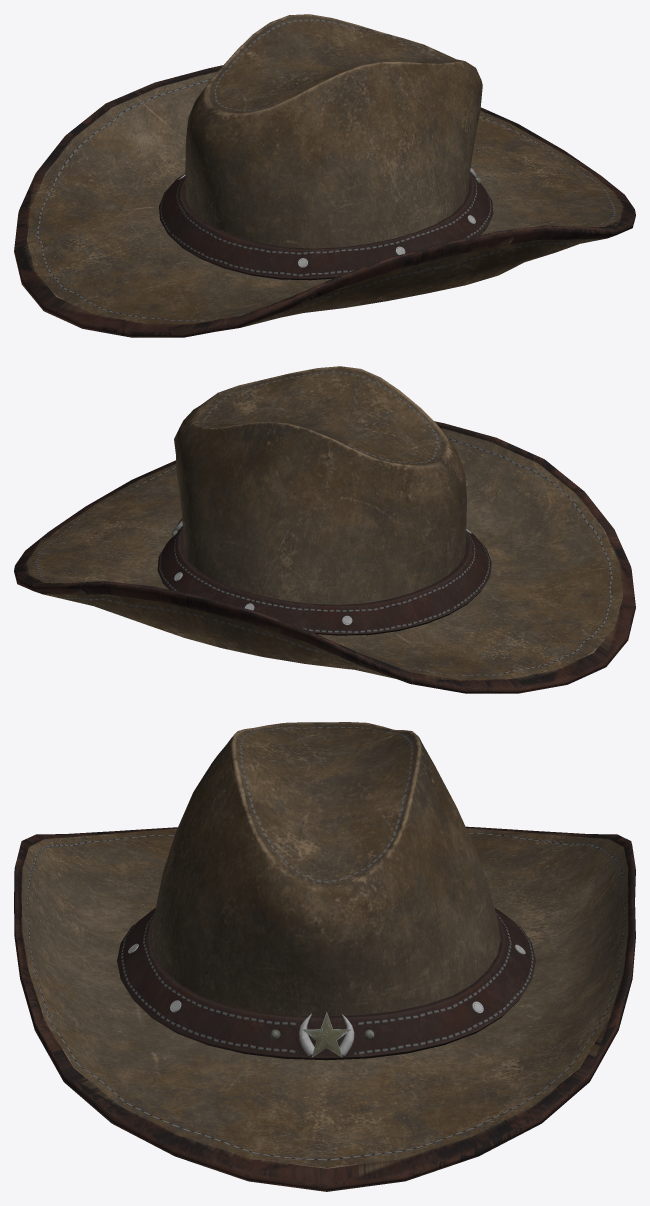
The model's file is cowboy_hat.glb.
The picture shows the model from 3 angles, top to bottom: view 1: azimuth 30°, elevation 25°; view 2: azimuth 150°, elevation 25°; view 3: azimuth 270°, elevation 25°; orthographic projection. The views are drawn at different scales.
Visible parts, largest first — view 1: polySurface2, polySurface1; view 2: polySurface2, polySurface1; view 3: polySurface2, polySurface1, pCylinder1, pCylinder2.
Part boxes in pixels (x1,y1,x2,y2): polySurface2: (14,14,635,337); polySurface1: (159,171,493,280); polySurface2: (14,366,635,693); polySurface1: (157,526,491,635); polySurface2: (14,722,635,1191); polySurface1: (117,907,535,1060); pCylinder1: (302,1012,351,1057); pCylinder2: (299,1013,354,1055).
Bounding box in the file's own units: 5.43 × 1.95 × 4.03.
1 material, 1 textured.
